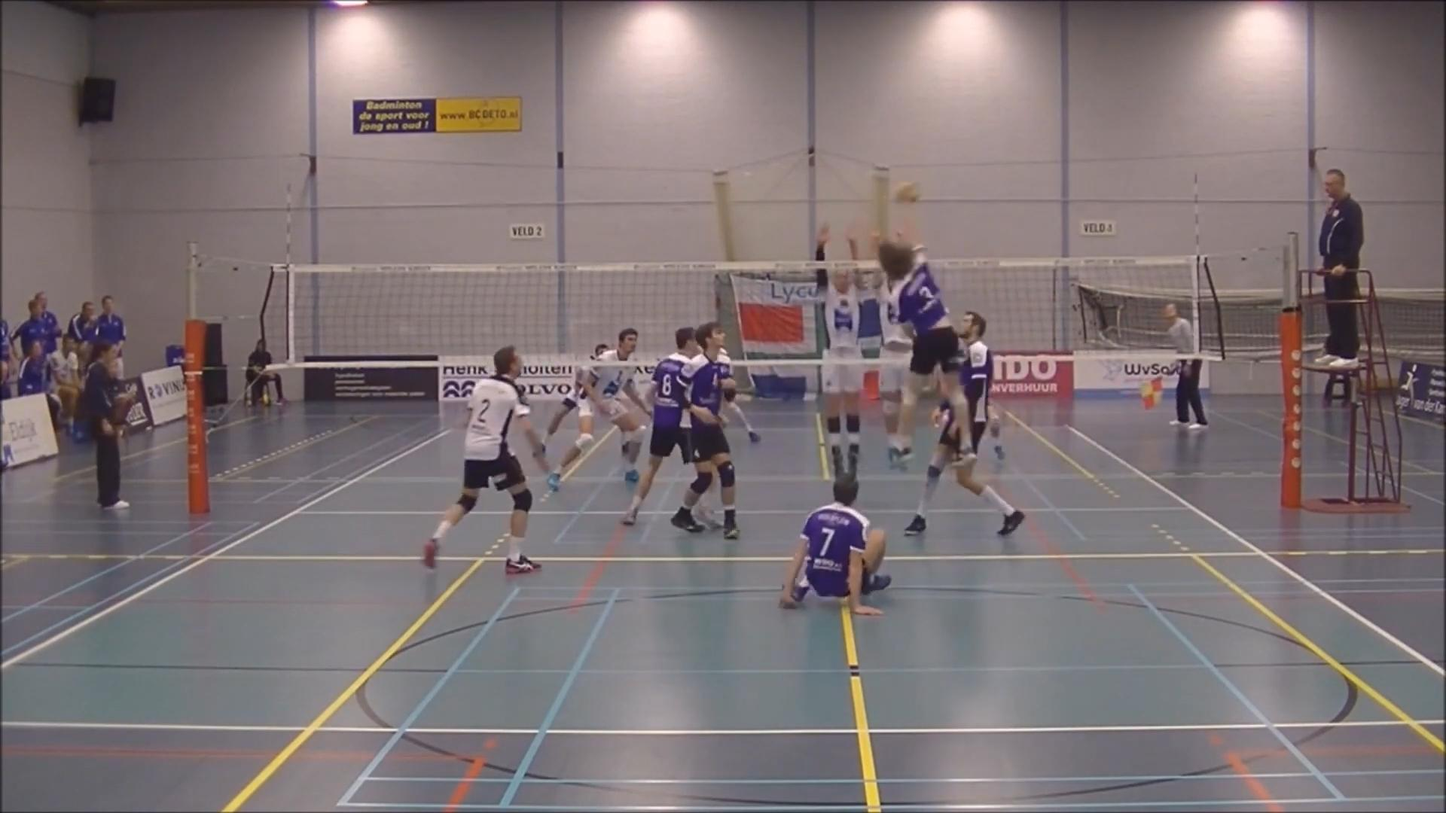attacco: (860, 188, 966, 473)
muro: (806, 212, 873, 493), (856, 208, 920, 472)
